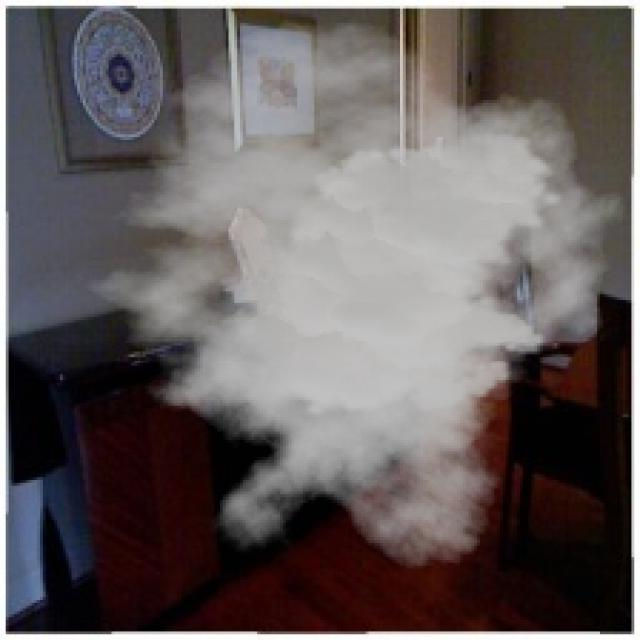smoke: (63, 20, 626, 571)
